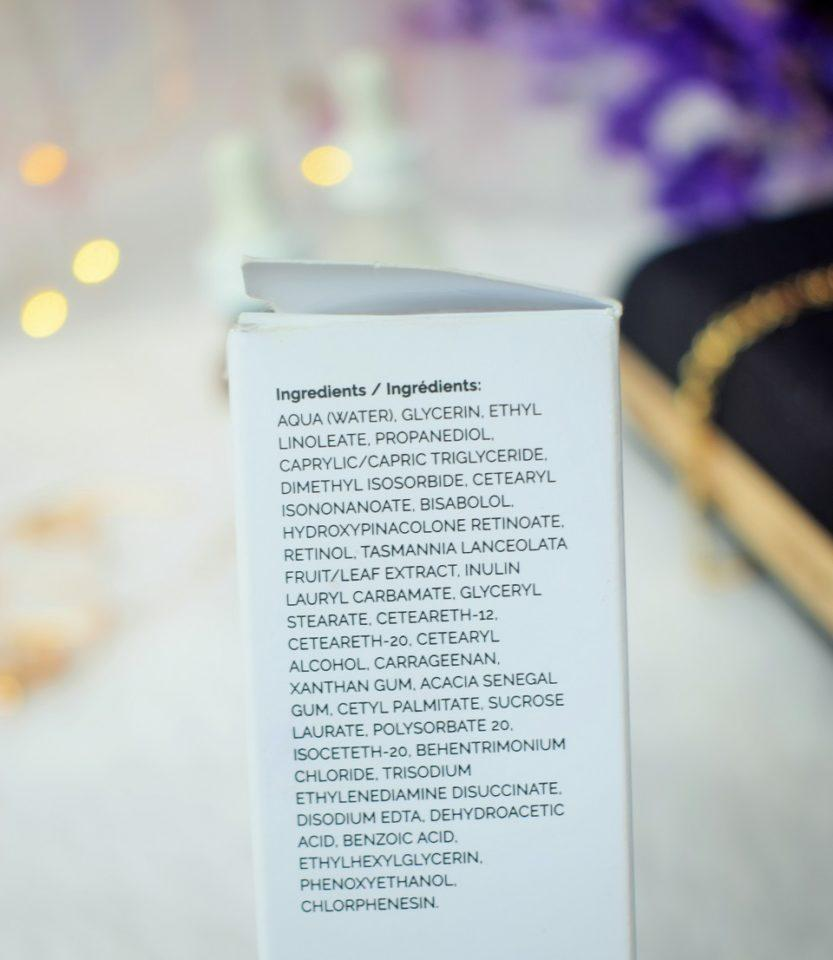ingredients: (267, 377, 594, 923)
